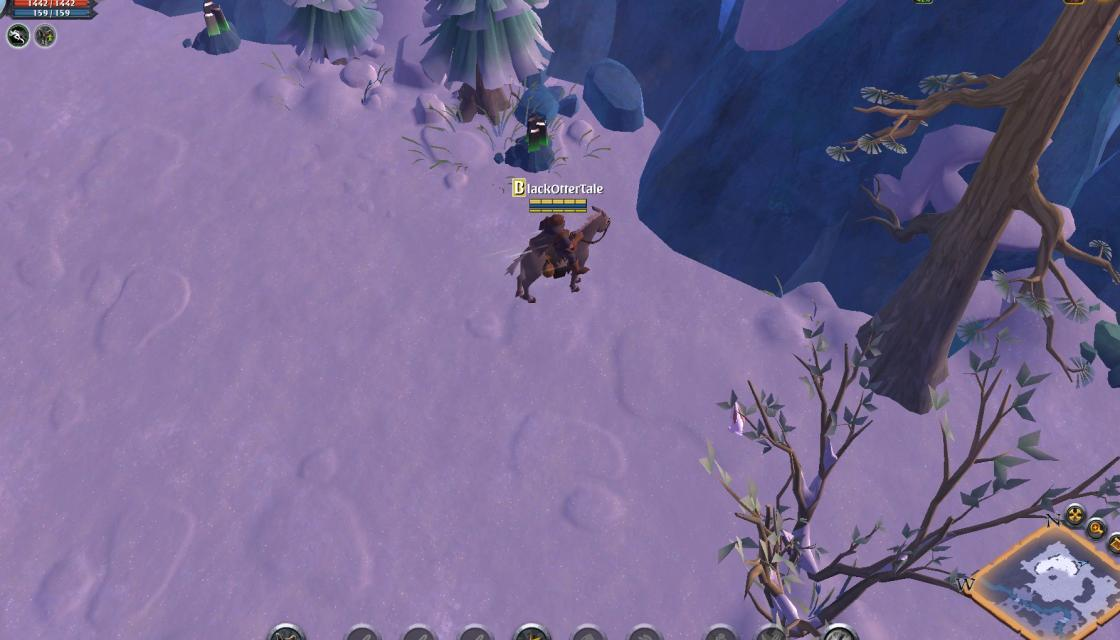sandstone: (1085, 301, 1120, 387)
tinore: (503, 110, 559, 173), (188, 0, 242, 59)
